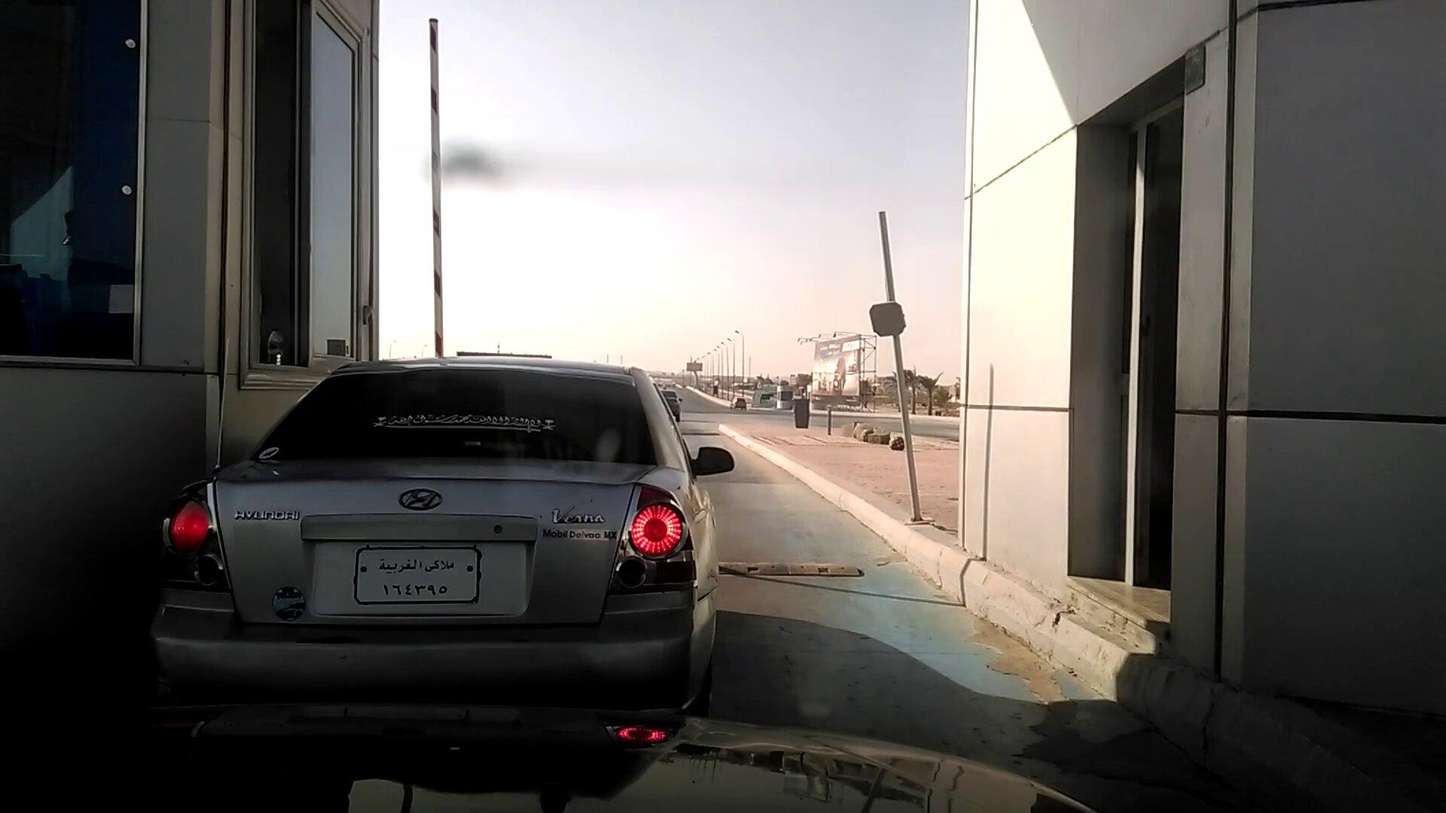Bump: (729, 553, 864, 583)
